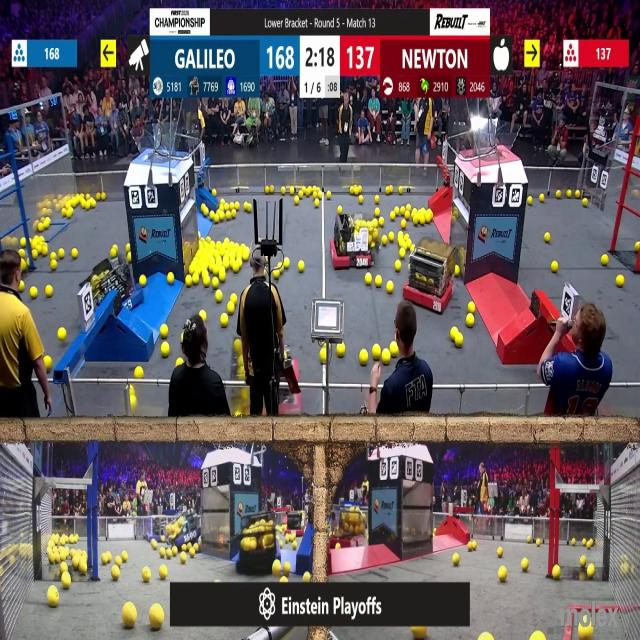ball_ground: (149, 604, 163, 630), (124, 603, 138, 627), (47, 586, 58, 608), (62, 572, 72, 588), (382, 350, 391, 364), (360, 350, 368, 365), (142, 567, 150, 582), (274, 561, 282, 576), (161, 565, 169, 579), (338, 344, 346, 358), (553, 566, 561, 580), (498, 567, 506, 581), (112, 566, 120, 580), (235, 340, 243, 354), (320, 349, 327, 364), (162, 344, 170, 357), (455, 336, 463, 349), (374, 346, 382, 359), (242, 248, 250, 261), (588, 564, 595, 578), (136, 365, 144, 377), (59, 327, 67, 339), (390, 344, 398, 356), (220, 314, 228, 326), (234, 262, 242, 274), (452, 554, 460, 566), (218, 270, 226, 282), (102, 553, 110, 565), (162, 324, 169, 337), (79, 561, 86, 574), (202, 205, 210, 216), (552, 262, 559, 274), (618, 275, 625, 287), (297, 262, 304, 274), (522, 558, 529, 570), (45, 285, 52, 297), (466, 314, 473, 326), (387, 282, 394, 294), (215, 290, 222, 302), (110, 246, 117, 258), (284, 562, 290, 576), (44, 356, 51, 368), (425, 210, 432, 222), (131, 396, 138, 408), (480, 633, 492, 640), (304, 571, 312, 581), (140, 275, 147, 286), (467, 303, 474, 314), (226, 304, 233, 315), (451, 326, 458, 337), (364, 275, 371, 286), (532, 633, 543, 640), (72, 248, 78, 260), (168, 273, 174, 285), (31, 286, 37, 298), (191, 274, 197, 286), (59, 249, 66, 259), (185, 276, 192, 286), (204, 277, 211, 287), (212, 278, 219, 288), (166, 550, 173, 560), (49, 554, 56, 564), (602, 254, 608, 265), (18, 281, 24, 292), (376, 276, 382, 287), (180, 553, 186, 564), (280, 574, 288, 582), (121, 553, 128, 562), (388, 234, 395, 243), (50, 262, 56, 272), (395, 262, 401, 272), (201, 310, 207, 320), (274, 270, 280, 280), (543, 234, 549, 244), (579, 556, 585, 566), (399, 248, 405, 258), (32, 249, 38, 259), (42, 246, 48, 256), (382, 236, 388, 246), (244, 203, 250, 213), (161, 549, 167, 559), (19, 262, 25, 272), (61, 562, 67, 572), (398, 208, 404, 218), (214, 212, 220, 222), (72, 558, 78, 568), (223, 260, 229, 270), (209, 210, 215, 220), (188, 550, 195, 558), (49, 252, 56, 260), (61, 209, 68, 217), (284, 257, 289, 268), (455, 267, 460, 278), (176, 357, 182, 366), (232, 293, 238, 302), (583, 199, 589, 208), (379, 217, 385, 226), (19, 239, 25, 248), (67, 209, 73, 218), (375, 208, 381, 217), (420, 215, 426, 224), (187, 266, 193, 275), (115, 556, 121, 565), (192, 542, 198, 551), (172, 546, 178, 555), (497, 548, 502, 558), (408, 210, 413, 220), (225, 210, 230, 220), (18, 250, 24, 258), (467, 541, 473, 549), (566, 189, 572, 197), (127, 244, 133, 252), (81, 201, 87, 209), (407, 242, 413, 250), (386, 186, 392, 194), (539, 192, 544, 201), (557, 189, 562, 198), (315, 200, 320, 209), (294, 198, 299, 207), (92, 200, 97, 209), (413, 210, 418, 219), (128, 254, 133, 262), (636, 242, 640, 252), (574, 190, 579, 198), (236, 202, 241, 210), (388, 212, 392, 222), (358, 197, 363, 205), (403, 233, 408, 241), (571, 537, 576, 545), (398, 240, 403, 248), (400, 219, 404, 228), (376, 194, 380, 203), (152, 539, 156, 548), (526, 536, 532, 542), (326, 191, 331, 198), (281, 187, 286, 194), (297, 191, 302, 198), (223, 239, 228, 246), (216, 241, 221, 248), (223, 204, 228, 211), (394, 208, 399, 215), (339, 207, 343, 215), (528, 198, 532, 206), (100, 194, 104, 202), (233, 210, 237, 218), (266, 185, 270, 193), (536, 538, 540, 546), (292, 540, 296, 548), (289, 187, 293, 195), (337, 543, 342, 549), (408, 205, 413, 211), (236, 412, 241, 418), (214, 578, 220, 583), (162, 536, 166, 542)
goal: (466, 120, 520, 160), (130, 130, 190, 160)
robot_blue: (76, 260, 136, 322), (241, 517, 283, 577), (167, 513, 202, 550), (147, 516, 169, 546)
robot_red: (404, 237, 454, 312), (331, 214, 379, 271), (333, 505, 368, 547), (285, 509, 306, 536)
